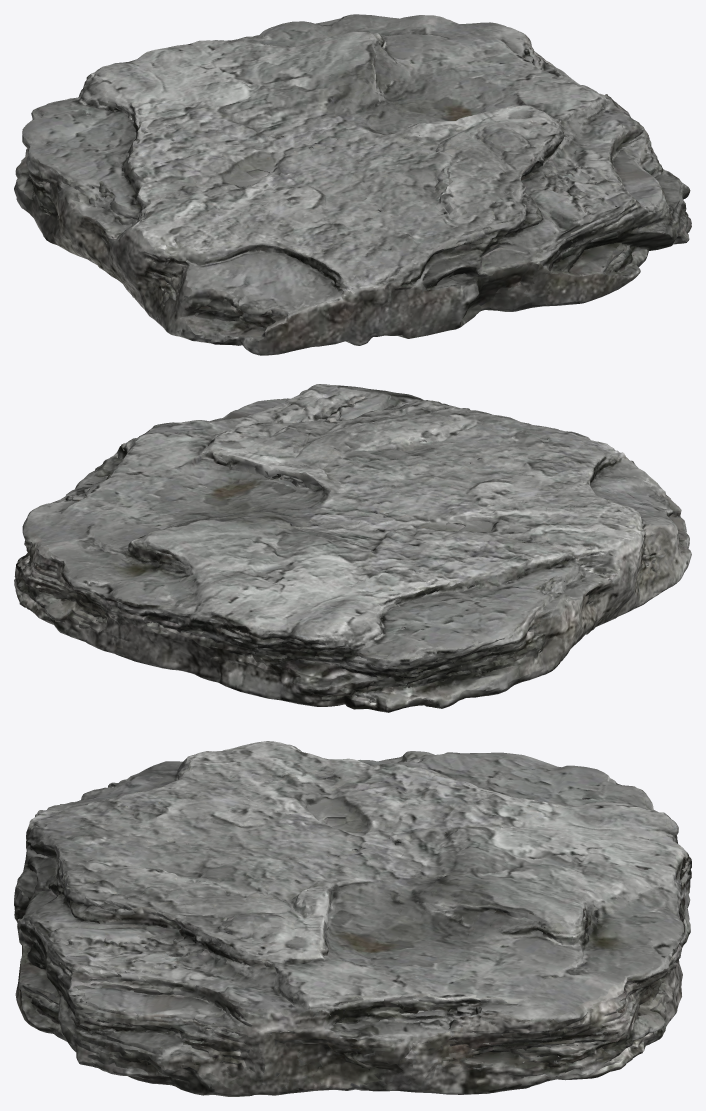
File: layered-slate-v10.glb
The picture shows the model from 3 angles, top to bottom: view 1: azimuth 30°, elevation 25°; view 2: azimuth 150°, elevation 25°; view 3: azimuth 270°, elevation 25°; orthographic projection. The views are drawn at different scales.
Parts seen in each view (by area): view 1: geometry_0; view 2: geometry_0; view 3: geometry_0.
Part boxes in pixels (left/top/right/bottom): geometry_0: left=14, top=14, right=691, bottom=355; geometry_0: left=14, top=384, right=691, bottom=712; geometry_0: left=14, top=741, right=691, bottom=1096.
Bounding box in the file's own units: 0.3499 × 0.0633 × 0.3499.
1 material, 1 textured.
